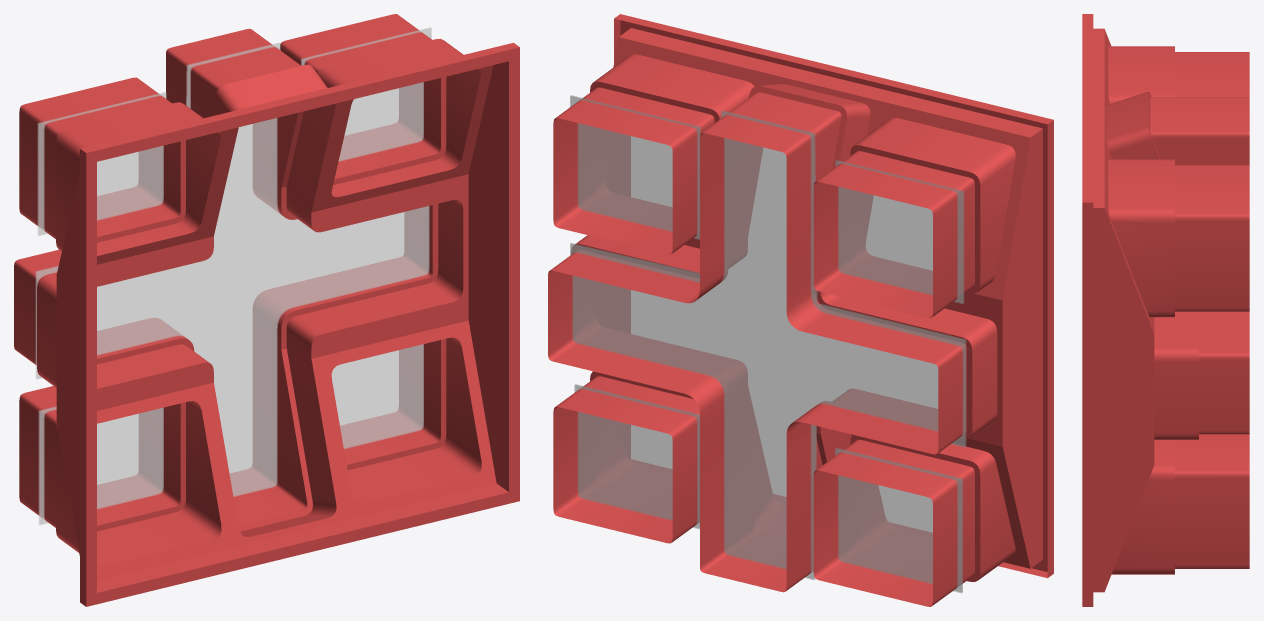
Rendered from Wall_D_4x4m.FBX.
3 renders of one model, left to right at view 1: azimuth 30°, elevation 25°; view 2: azimuth 150°, elevation 25°; view 3: azimuth 270°, elevation 25°, orthographic. The views are drawn at different scales.
Visible parts, largest first — view 1: Wall_D_4x4m; view 2: Wall_D_4x4m; view 3: Wall_D_4x4m.
Boxes of the visible parts, x1,y1,x2,y2 form: Wall_D_4x4m: (14,14,519,606); Wall_D_4x4m: (548,14,1053,606); Wall_D_4x4m: (1082,14,1249,606).
Size of the model in its own units: 400 by 400 by 150.
